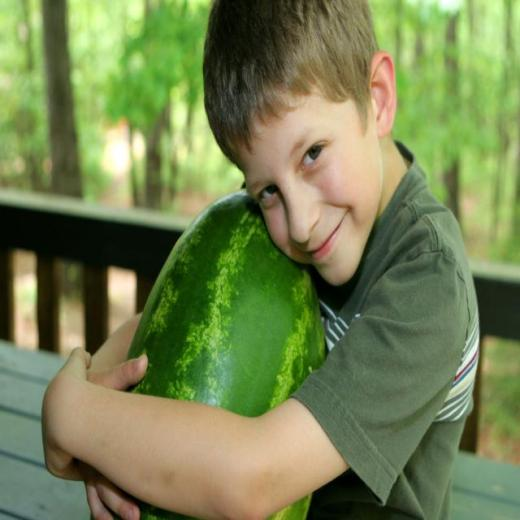Cherry: (89, 187, 328, 520), (89, 187, 324, 520)
